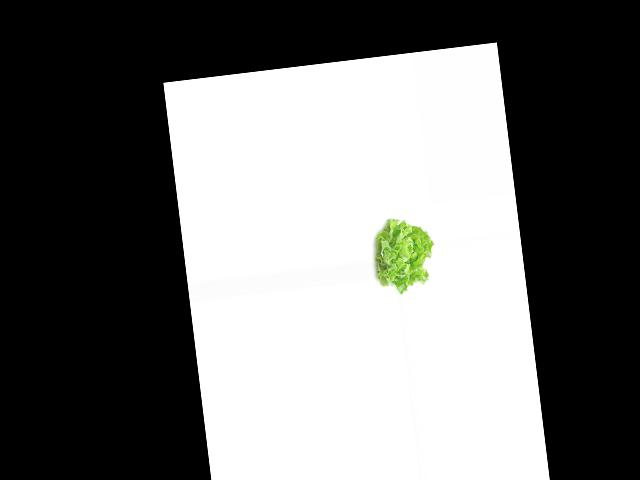lettuce: (368, 215, 438, 296)
